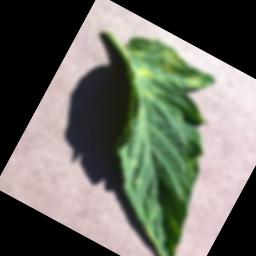Leaf_Mold: (134, 38, 187, 91), (179, 63, 209, 92)
